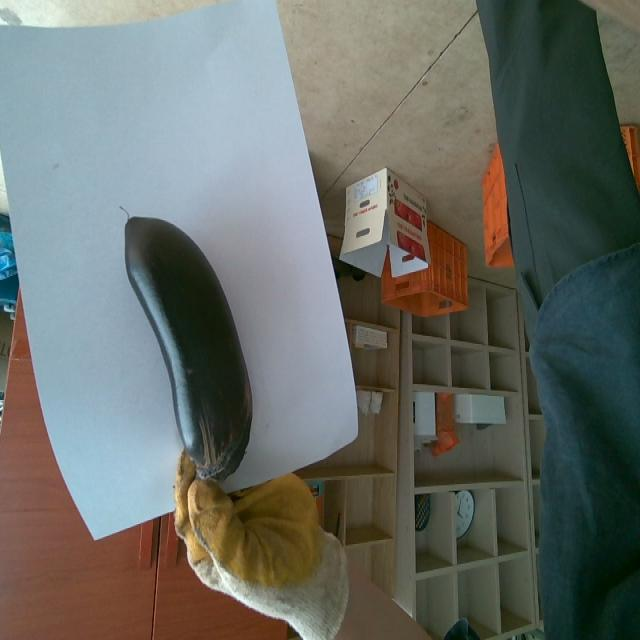Egg plant: (125, 219, 251, 481)
